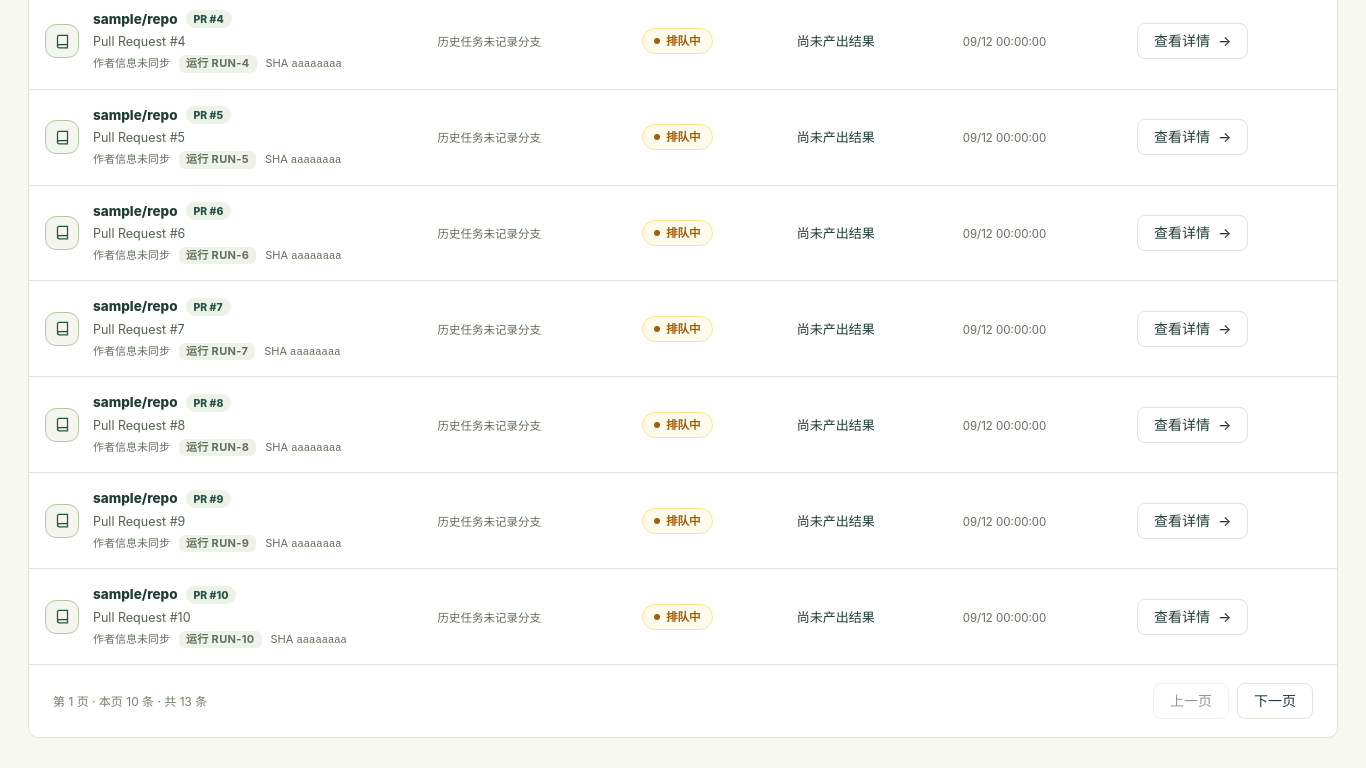
Scenario: 在后续页搜索会返回首页并请求服务端筛选，能找到当前页之外的任务
The image size is (1366, 768).
(page scrolled)
Click the button "下一页". click: (1275, 701)
box: [1237,683,1313,719]
(page scrolled)
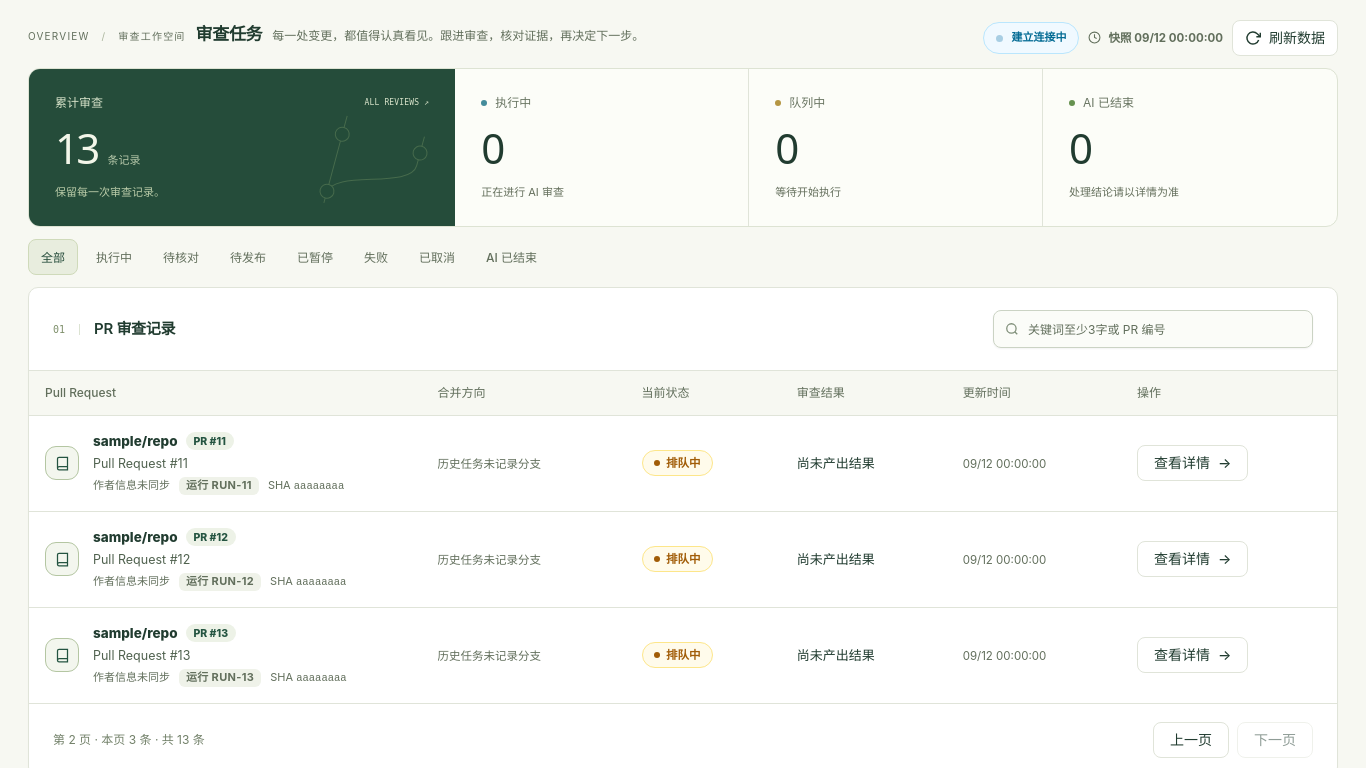
Check: the text "PR #11" is shown, box [186,432,234,450]
Type "target" into the field with placeholder "关键词至少3字或 PR 编号". click: (1153, 329)
box: [993,310,1313,348]
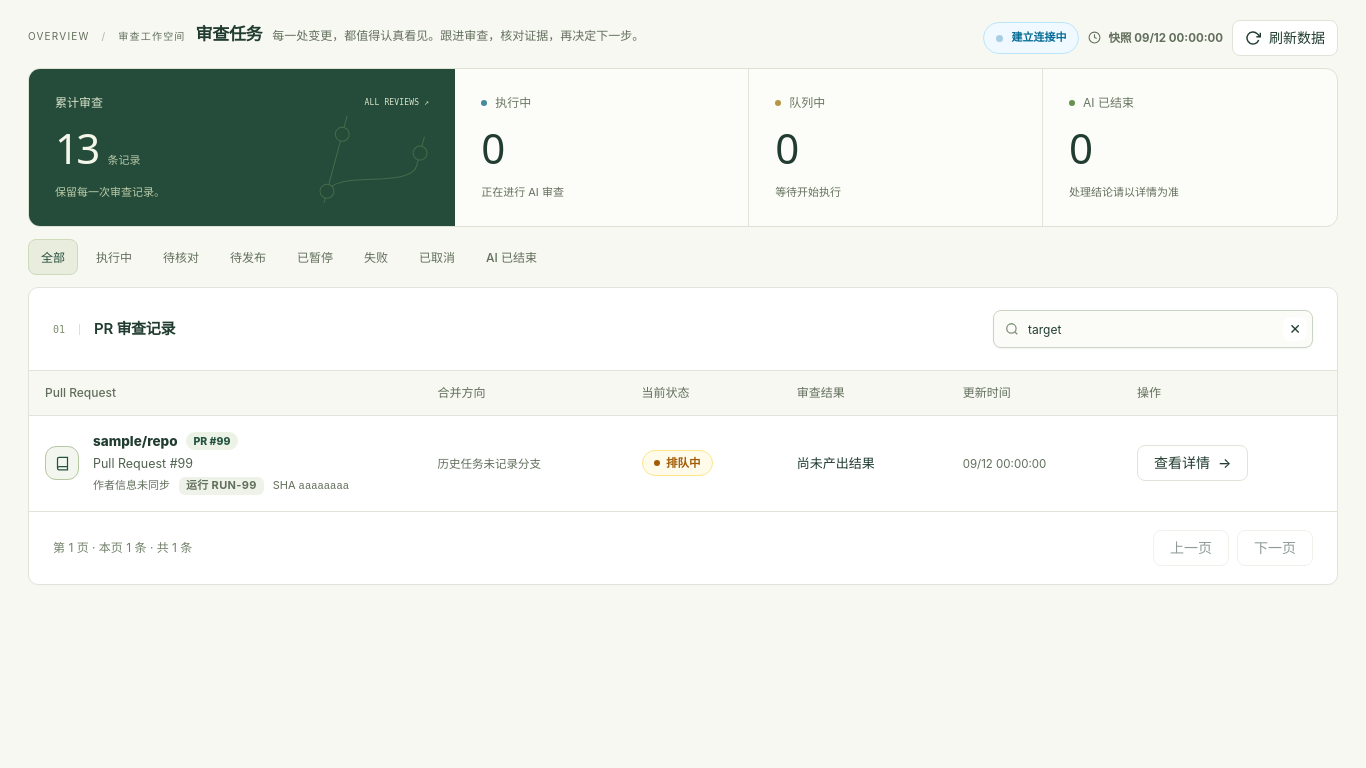
Check: the text "PR #99" is shown, box [186,432,238,450]
Check: the text "第 1 页 · 本页 1 条 · 共 1 条" is shown, box [53,538,192,557]
